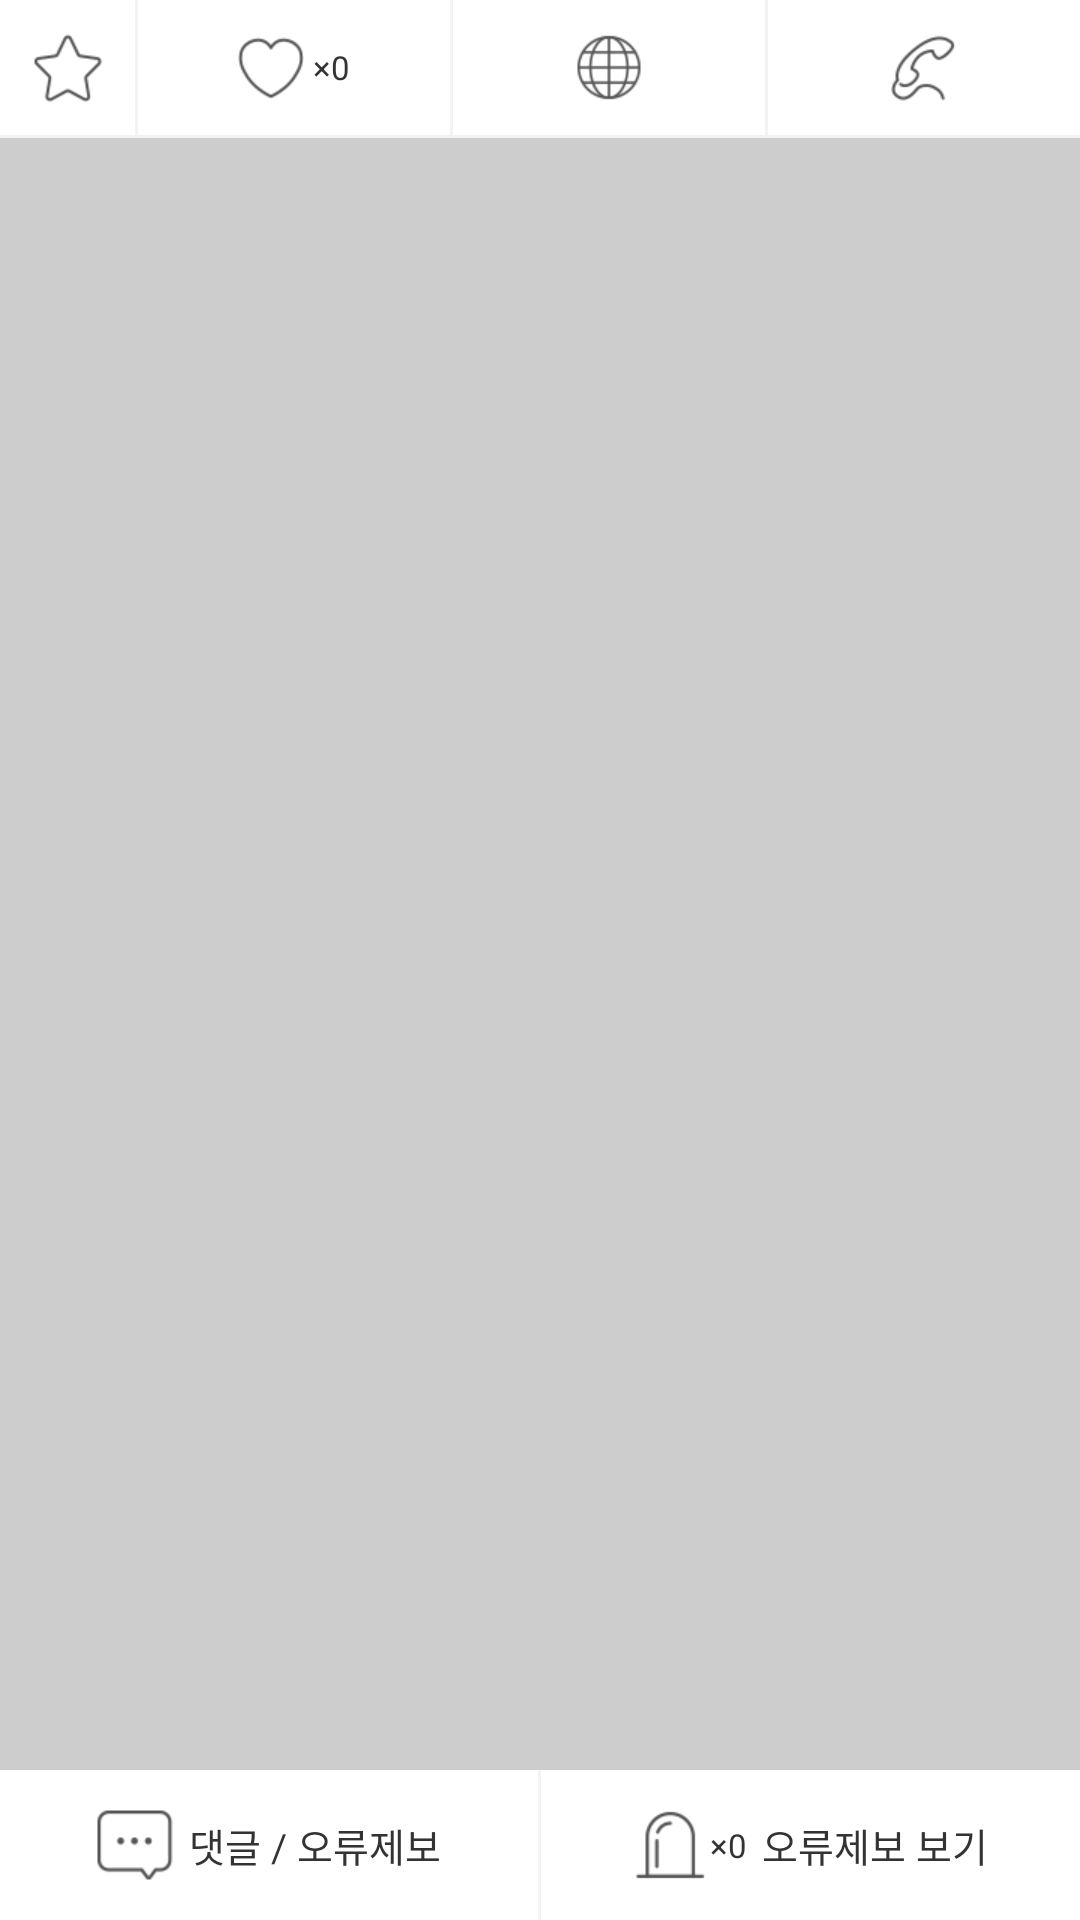

Where icons sit on this 1080 x 1920 app screen, as [left=x1, top=y1, right=x2, bottom=y2]:
item detail call: [left=891, top=36, right=955, bottom=101]
item detail like off: [left=238, top=38, right=304, bottom=98]
item detail link: [left=577, top=35, right=641, bottom=100]
report off: [left=636, top=1811, right=704, bottom=1879]
